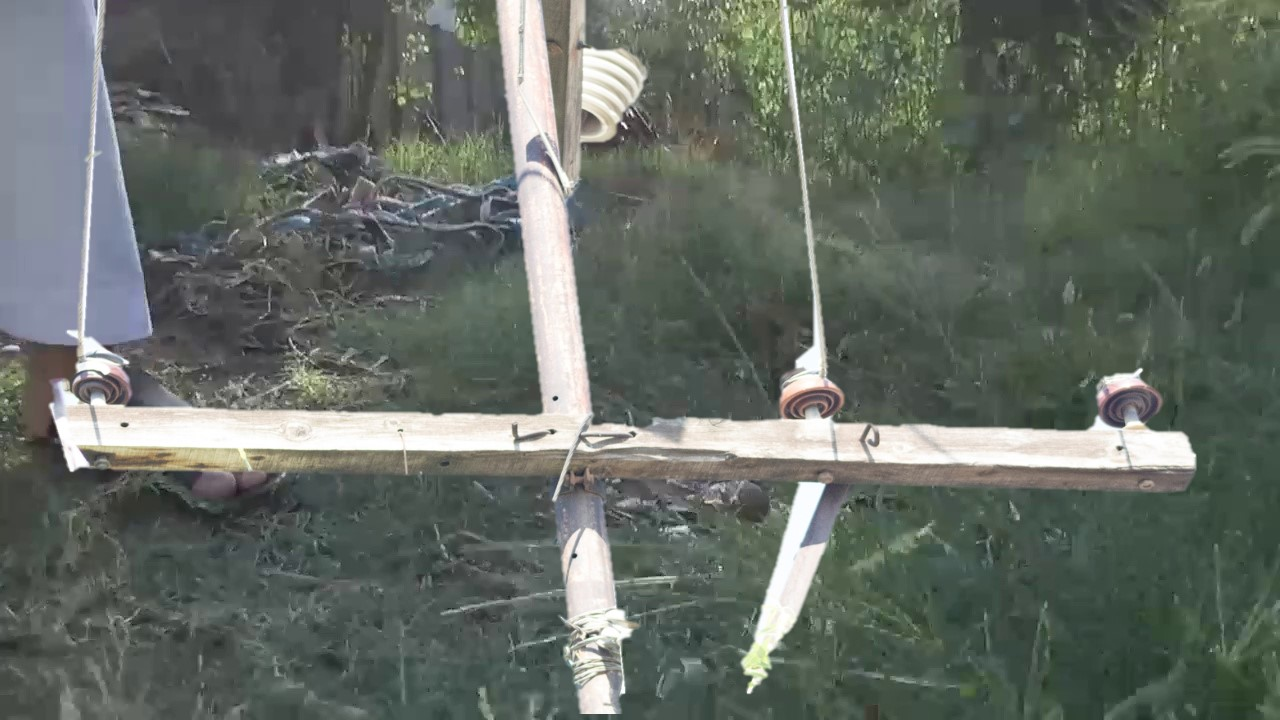defect_pin: (66, 355, 134, 406)
insulator_pin: (1090, 365, 1168, 430), (774, 362, 849, 422)
